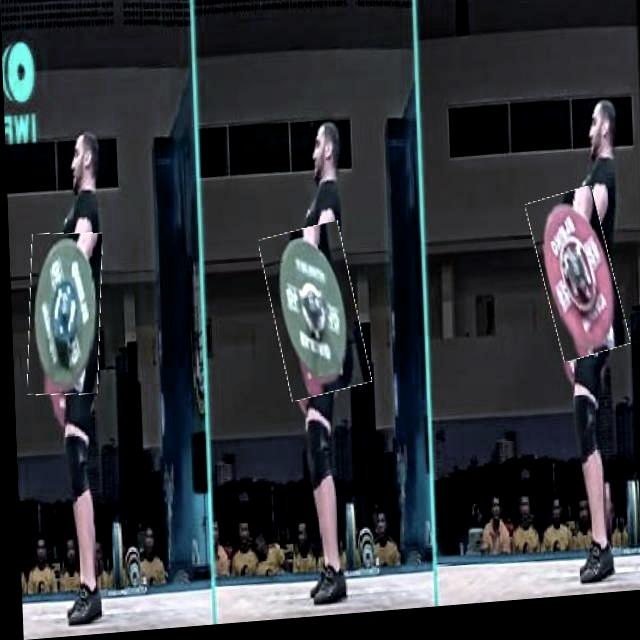barbell: (262, 228, 362, 405), (532, 197, 620, 372), (24, 232, 103, 399)
